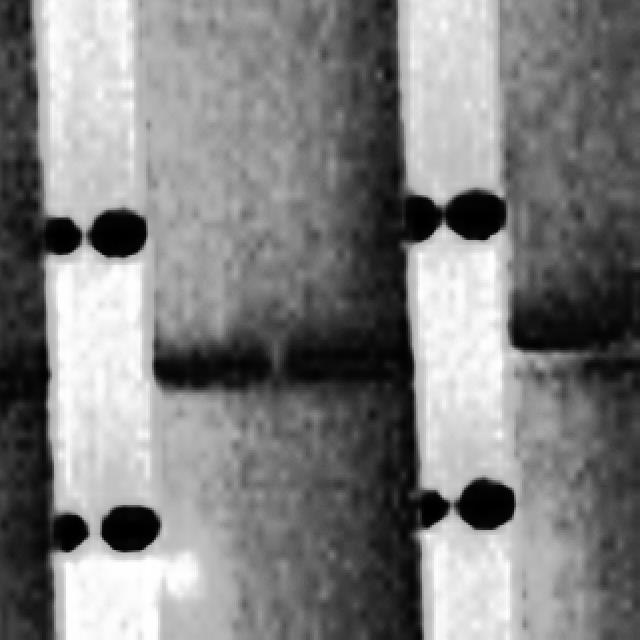PV-modules: (140, 0, 415, 385), (156, 366, 436, 640), (492, 0, 638, 357), (507, 349, 640, 635), (0, 0, 36, 390), (0, 385, 52, 635)
